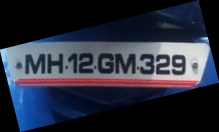character: (114, 52, 135, 75), (24, 52, 45, 74), (77, 51, 94, 74), (46, 52, 63, 74), (97, 51, 114, 73), (171, 52, 186, 75), (139, 53, 155, 74), (155, 53, 170, 75), (67, 52, 78, 74)
